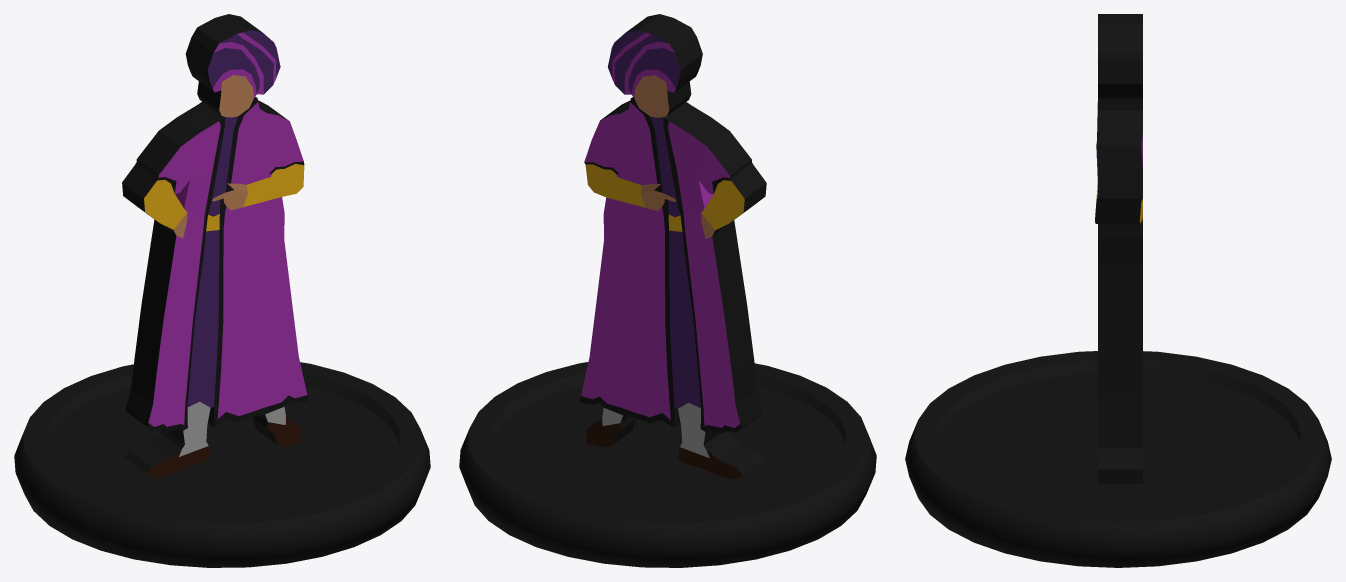
Rendered from merchantToken.fbx.
The picture shows the model from 3 angles, left to right: view 1: azimuth 30°, elevation 25°; view 2: azimuth 150°, elevation 25°; view 3: azimuth 270°, elevation 25°; orthographic projection. The views are drawn at different scales.
Visible parts, largest first — view 1: Plane; view 2: Plane; view 3: Plane.
Boxes of the visible parts, x1,y1,x2,y2 form: Plane: [14, 14, 430, 567]; Plane: [459, 14, 876, 567]; Plane: [905, 14, 1331, 567].
Bounding box in the file's own units: 347 × 419 × 347.
